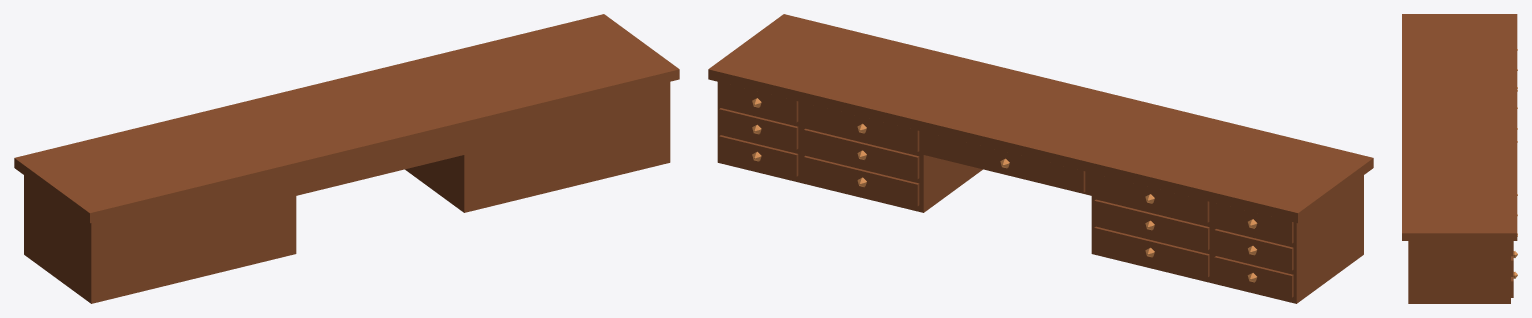
File: Table2.fbx
3 views of the same model, side by side, from view 1: azimuth 30°, elevation 25°; view 2: azimuth 150°, elevation 25°; view 3: azimuth 270°, elevation 25° (orthographic). The views are drawn at different scales.
Parts seen in each view (by area): view 1: Cube.033; view 2: Cube.033; view 3: Cube.033.
Boxes of the visible parts, bbox=[...] form: Cube.033: bbox=[14, 14, 679, 303]; Cube.033: bbox=[708, 14, 1373, 303]; Cube.033: bbox=[1402, 14, 1517, 303].
Size of the model in its own units: 702 by 108 by 157.
